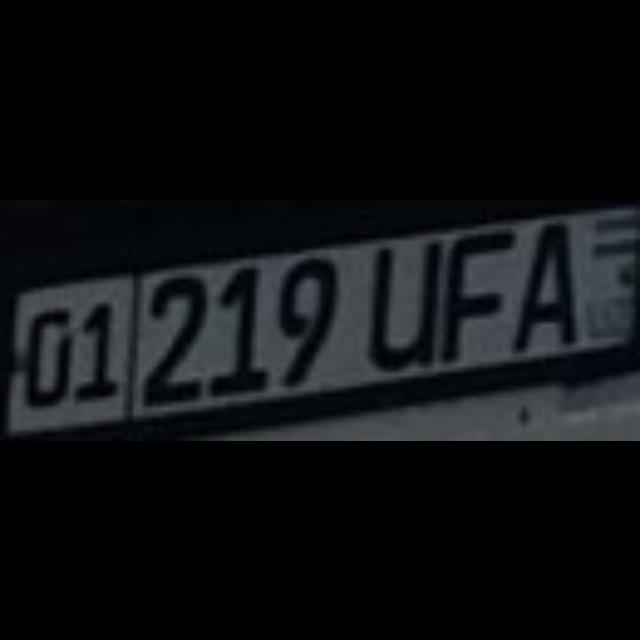0: (14, 303, 64, 401)
1: (202, 258, 260, 392), (69, 298, 113, 396)
2: (138, 268, 202, 400)
9: (271, 253, 335, 381)
A: (508, 214, 576, 342)
F: (438, 224, 512, 356)
U: (364, 234, 434, 366)
